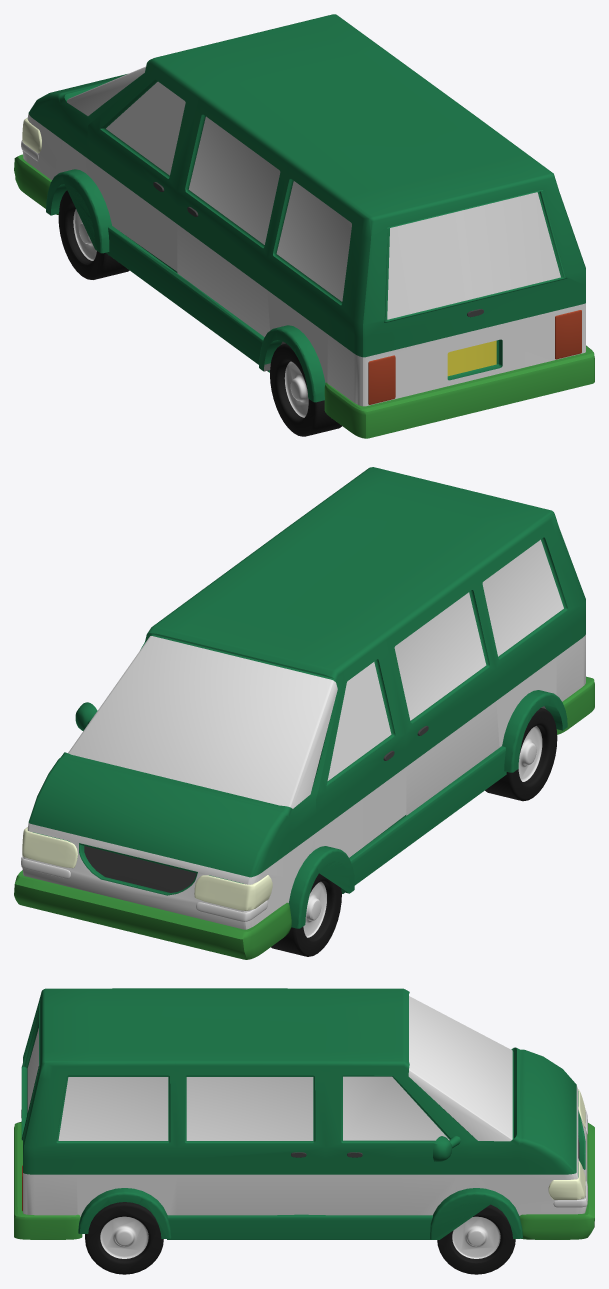
The model's file is minivan.fbx.
3 views of the same model, one above another, from view 1: azimuth 30°, elevation 25°; view 2: azimuth 150°, elevation 25°; view 3: azimuth 270°, elevation 25° (orthographic). The views are drawn at different scales.
Parts seen in each view (by area): view 1: van, bumper, door, back wheels, front wheels; view 2: van, bumper, door, back wheels, front wheels, turn signal lights; view 3: van, bumper, back wheels, front wheels, mirror R, turn signal lights.
Part boxes in pixels (x1,y1,x2,y2): van: (22, 14, 585, 406); bumper: (14, 154, 594, 438); door: (86, 67, 198, 271); back wheels: (270, 343, 341, 436); front wheels: (58, 190, 129, 279); van: (22, 467, 585, 929); bumper: (14, 676, 594, 959); door: (315, 640, 406, 857); back wheels: (485, 708, 557, 801); front wheels: (271, 873, 341, 956); turn signal lights: (21, 856, 267, 921); van: (21, 988, 587, 1239); bumper: (14, 1121, 594, 1239); back wheels: (85, 1202, 163, 1274); front wheels: (437, 1204, 515, 1274); mirror R: (433, 1136, 460, 1161); turn signal lights: (553, 1110, 587, 1207).
Bounding box in the file's own units: 117 × 101 × 263.
